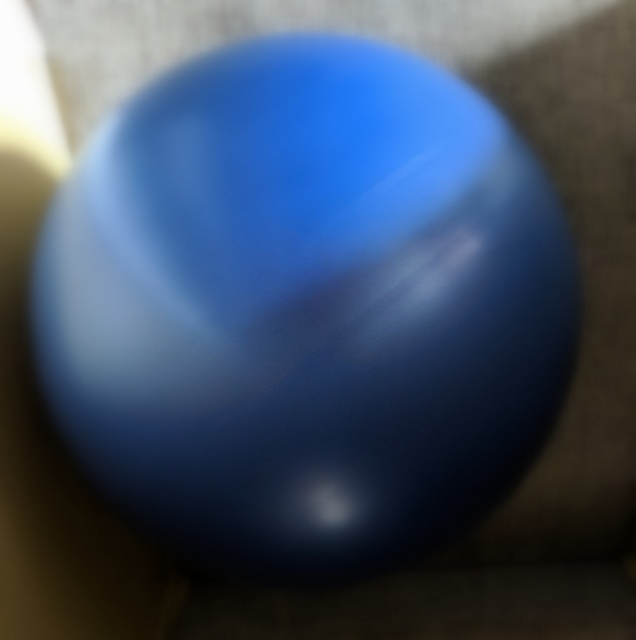ball: (23, 26, 593, 599)
